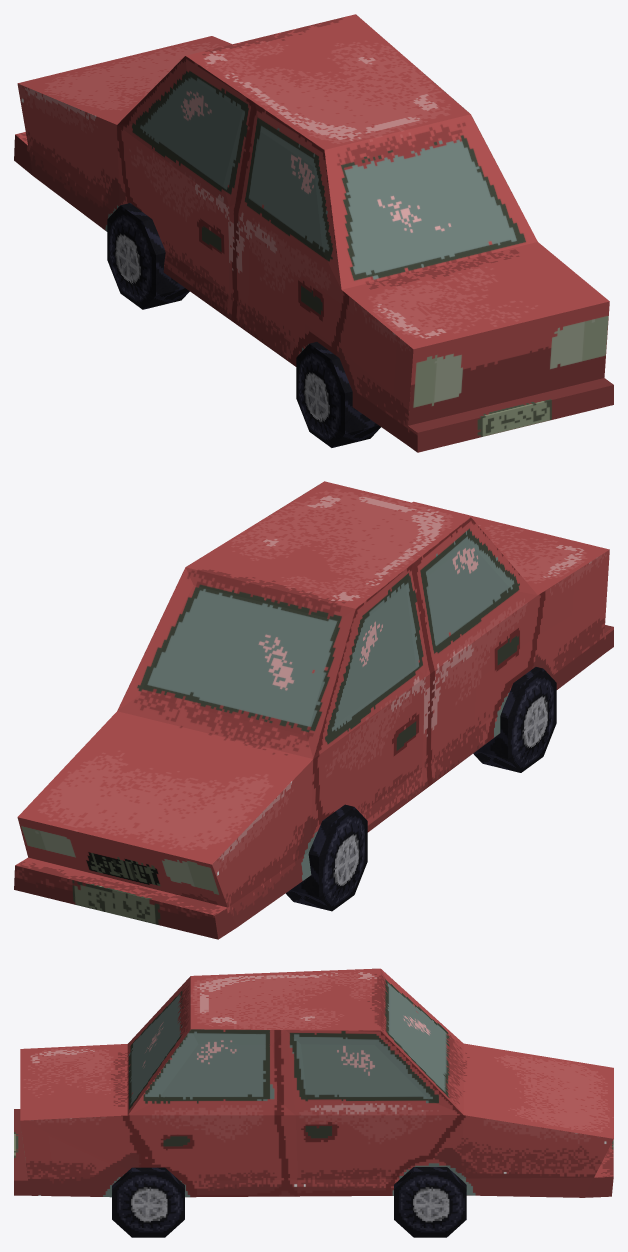
Rendered from red_car.fbx.
3 renders of one model, top to bottom at view 1: azimuth 30°, elevation 25°; view 2: azimuth 150°, elevation 25°; view 3: azimuth 270°, elevation 25°, orthographic. The views are drawn at different scales.
Parts seen in each view (by area): view 1: auto cervene; view 2: auto cervene; view 3: auto cervene.
Boxes of the visible parts, x1,y1,x2,y2 form: auto cervene: (14,14,613,452); auto cervene: (14,481,613,939); auto cervene: (14,968,613,1237).
Size of the model in its own units: 131 by 150 by 412.
